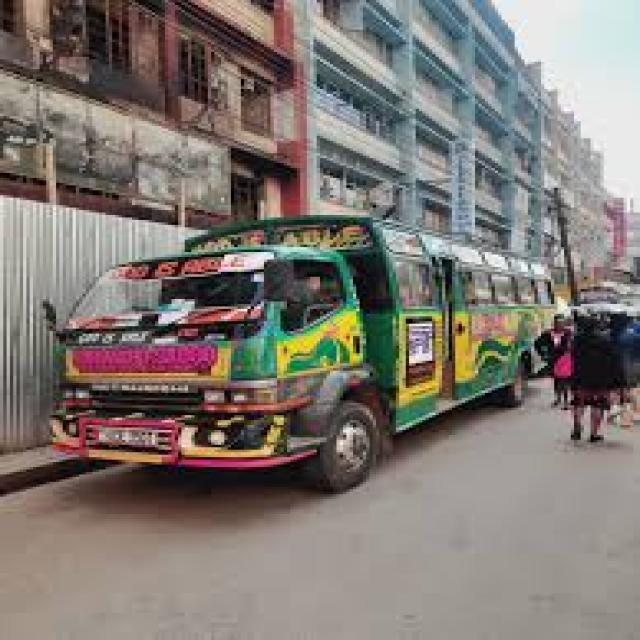matatu: (22, 127, 605, 540)
